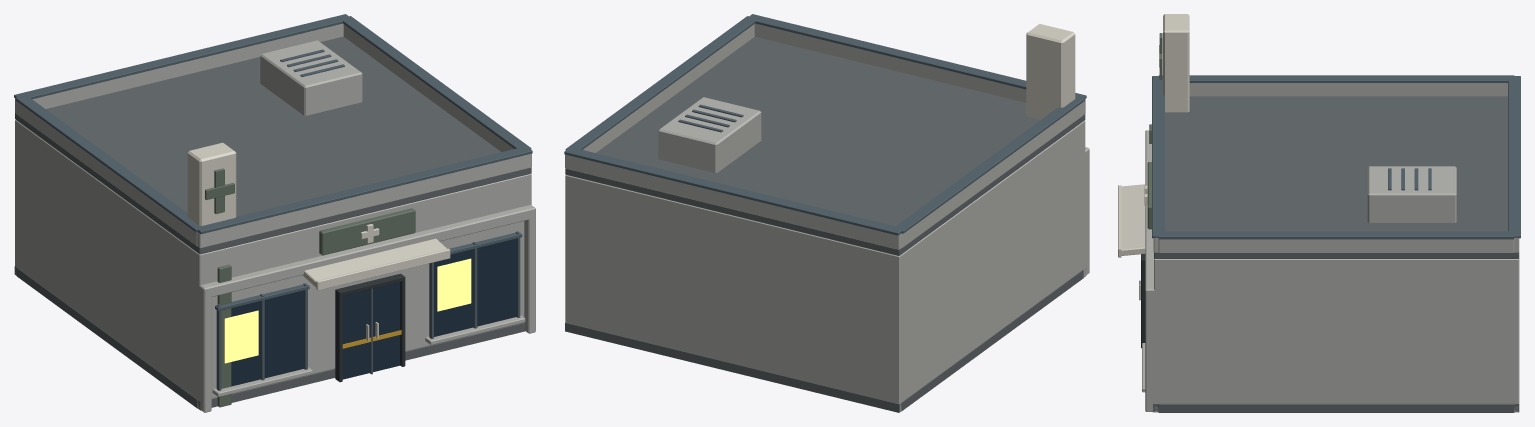
Rendered from BH_Building_Pharmacy_01.glb.
3 renders of one model, left to right at view 1: azimuth 30°, elevation 25°; view 2: azimuth 150°, elevation 25°; view 3: azimuth 270°, elevation 25°, orthographic. The views are drawn at different scales.
Parts seen in each view (by area): view 1: BH_Building_Pharmacy_01_RenderMesh, BH_Building_Pharmacy_01_LightMesh; view 2: BH_Building_Pharmacy_01_RenderMesh; view 3: BH_Building_Pharmacy_01_RenderMesh.
Boxes of the visible parts, x1,y1,x2,y2 form: BH_Building_Pharmacy_01_RenderMesh: (14, 14, 535, 412); BH_Building_Pharmacy_01_LightMesh: (224, 258, 471, 363); BH_Building_Pharmacy_01_RenderMesh: (564, 14, 1089, 412); BH_Building_Pharmacy_01_RenderMesh: (1118, 14, 1520, 412).
Size of what is drawn, in the model's own units: 8.59 by 6 by 9.05.
